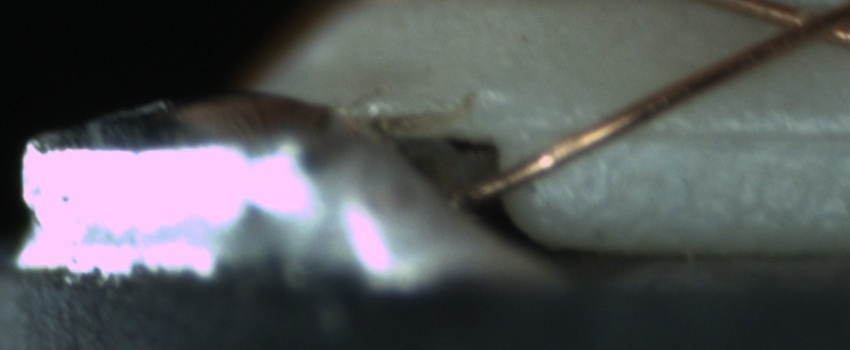CL: (757, 3, 843, 53)
DL: (561, 104, 850, 168)
